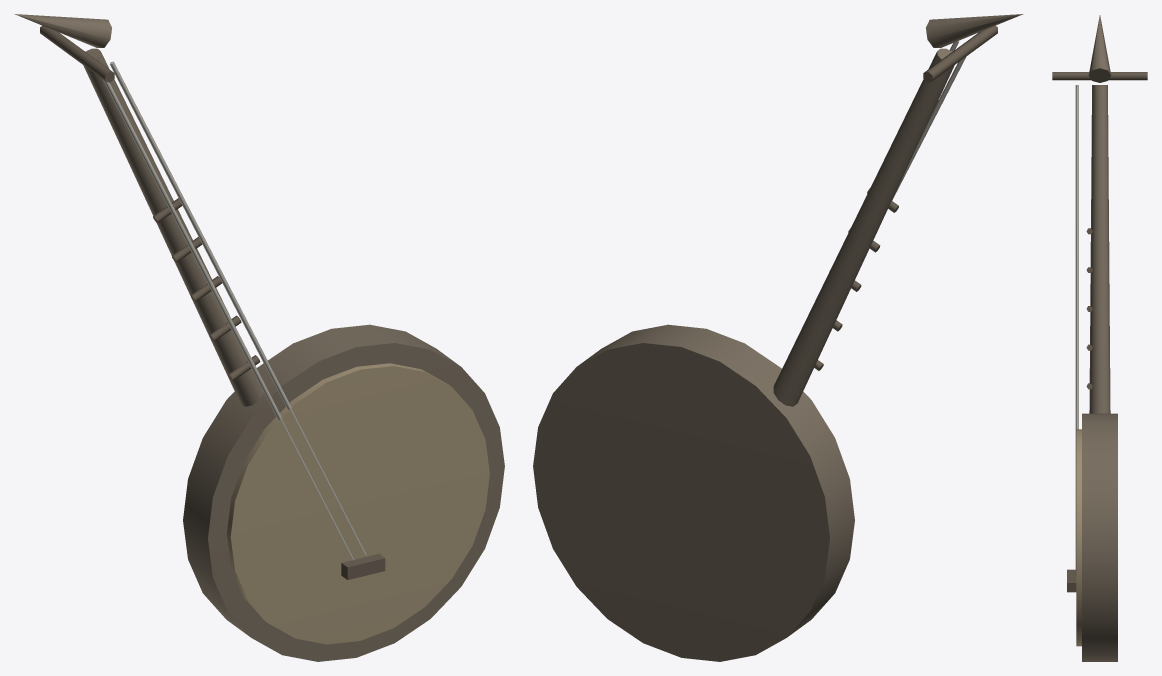
The model's file is chapei.glb.
3 views of the same model, side by side, from view 1: azimuth 30°, elevation 25°; view 2: azimuth 150°, elevation 25°; view 3: azimuth 270°, elevation 25° (orthographic). The views are drawn at different scales.
Size of the model in its own units: 1.68 by 2.4 by 0.399.
